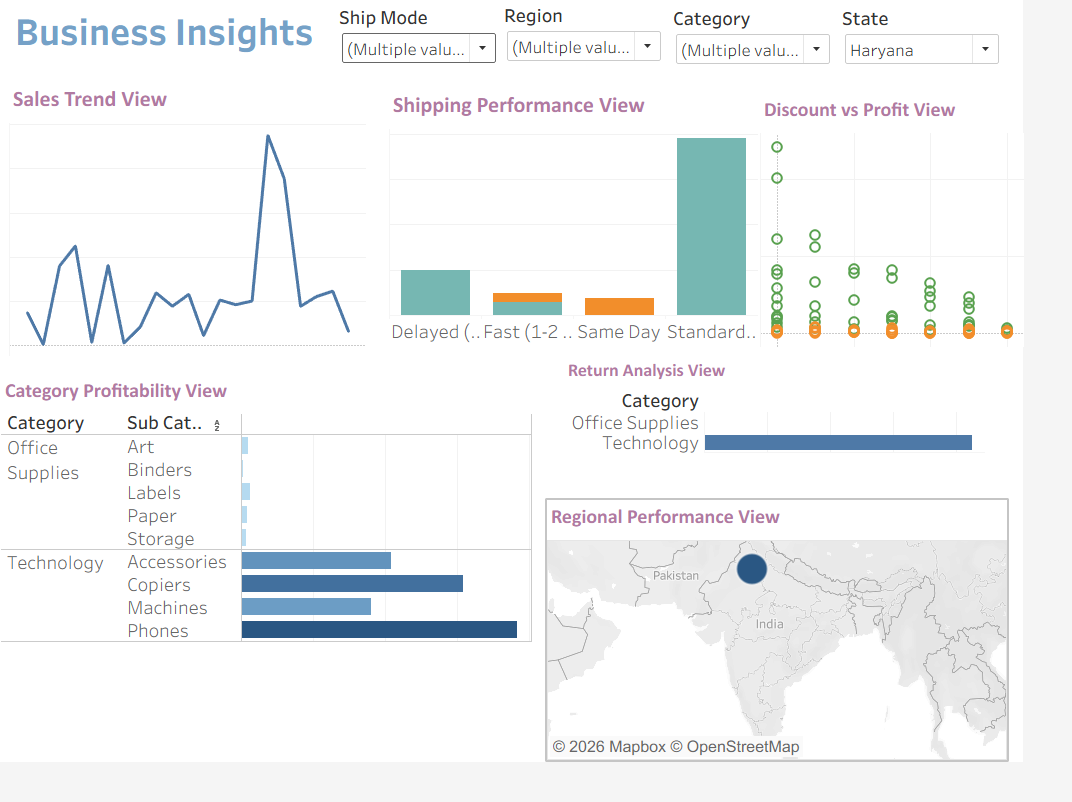

The page's visual inventory and layout, read from the dashboard file:
{"tool":"tableau","page":{"name":"Business Insights","canvas":[1024,768],"ordinal":0},"visuals":[{"type":"title","box":[8,8,1008,57]},{"type":"filter","title":"Sales Trend","param":"[federated.0d8iams0lfwvn01cj5vl30xurycl].[none:region:nk]","box":[505,8,160,66]},{"type":"filter","title":"Ship Perf","param":"[federated.0d8iams0lfwvn01cj5vl30xurycl].[none:ship_mode:nk]","box":[340,10,160,70]},{"type":"filter","title":"Ship Perf","param":"[federated.0d8iams0lfwvn01cj5vl30xurycl].[none:category:nk]","box":[674,11,160,71]},{"type":"filter","title":"Reginal Perf","param":"[federated.0d8iams0lfwvn01cj5vl30xurycl].[none:state:nk]","box":[843,11,160,81]},{"type":"worksheet","title":"Sales Trend","mark":"Automatic","rows":["sales"],"cols":["order_date"],"box":[10,87,357,275]},{"type":"worksheet","title":"Ship Perf","mark":"Automatic","rows":["sales"],"cols":["Calculation_869476220598177796"],"box":[390,93,369,268]},{"type":"worksheet","title":"Discount vs Profit","mark":"Automatic","rows":["profit"],"cols":["discount"],"box":[761,99,264,254]},{"type":"worksheet","title":"Return Analysis","mark":"Automatic","rows":["category"],"cols":["Calculation_869476220597518339"],"box":[565,361,421,131]},{"type":"worksheet","title":"Catg Profitablity","mark":"Automatic","rows":["category","sub_category"],"cols":["profit"],"box":[2,380,531,362]},{"type":"worksheet","title":"Reginal Perf","mark":"Automatic","box":[548,506,460,260]}]}

Visuals, with their boxes in screenshot pixels (x1, y1, x2, y2), scaled from the page's 1024x768 canvas onto the 1072x802 screenshot:
title: BBox(8, 8, 1064, 68)
"Sales Trend" filter: BBox(529, 8, 696, 77)
"Ship Perf" filter: BBox(356, 10, 523, 84)
"Ship Perf" filter: BBox(706, 11, 873, 86)
"Reginal Perf" filter: BBox(883, 11, 1050, 96)
"Sales Trend" worksheet: BBox(10, 91, 384, 378)
"Ship Perf" worksheet: BBox(408, 97, 795, 377)
"Discount vs Profit" worksheet: BBox(797, 103, 1071, 369)
"Return Analysis" worksheet: BBox(591, 377, 1032, 514)
"Catg Profitablity" worksheet: BBox(2, 397, 558, 775)
"Reginal Perf" worksheet: BBox(574, 528, 1055, 800)
